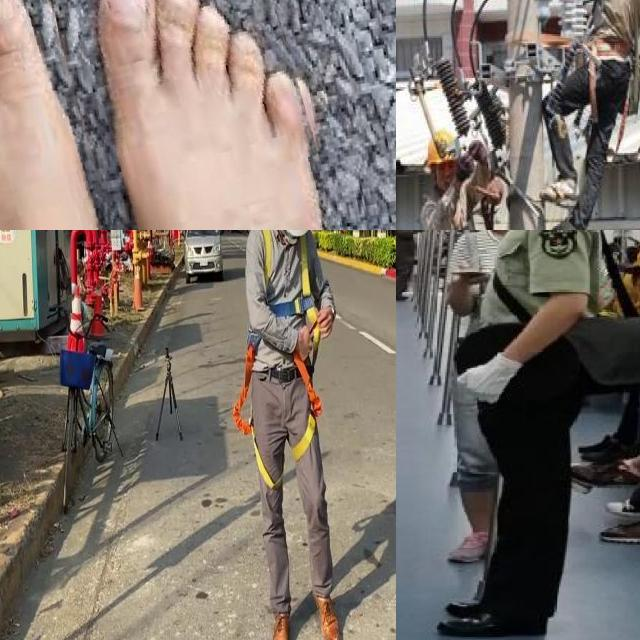Barefoots: (74, 0, 396, 230), (0, 0, 186, 230)
Harness: (233, 341, 283, 490), (261, 230, 321, 350), (292, 352, 323, 462)
hand_glove: (456, 359, 521, 406)
hand_noglove: (450, 263, 490, 288)
head_helmet: (423, 127, 466, 167)
head_nohelmet: (628, 263, 640, 283)
person: (448, 230, 631, 640), (537, 0, 640, 230), (420, 131, 526, 230)
shoes: (437, 595, 551, 640), (446, 526, 494, 566), (597, 514, 640, 552), (539, 171, 578, 205), (551, 212, 585, 230)
